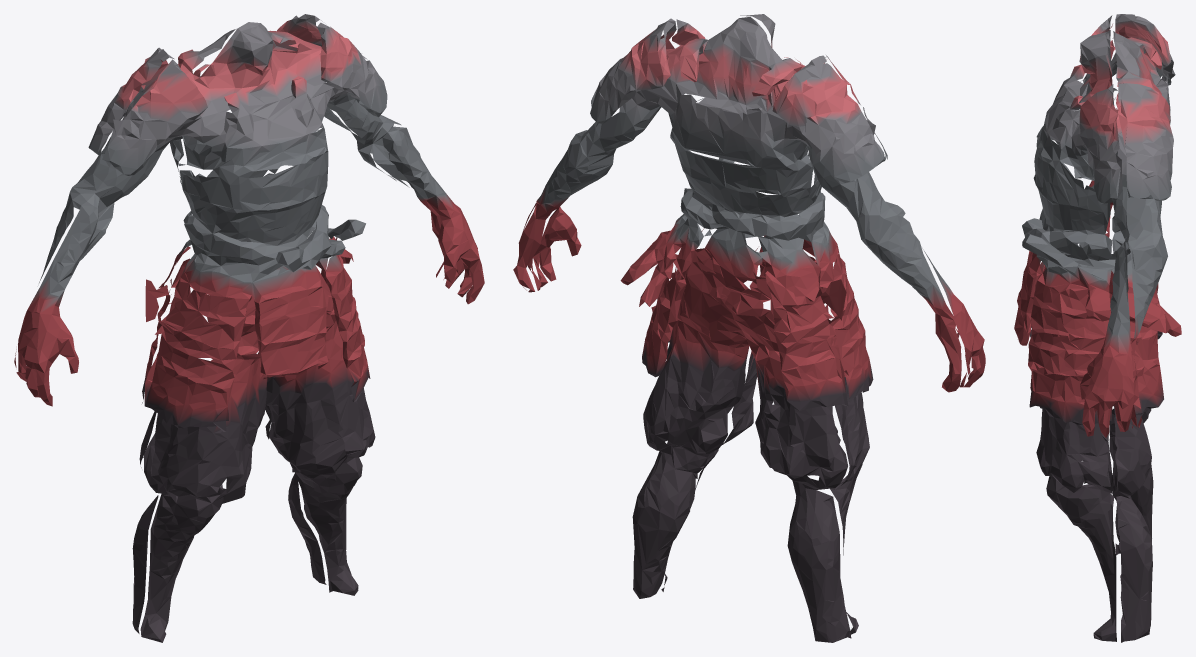
The model's file is ashigaru_v2d_colored.glb.
3 views of the same model, side by side, from view 1: azimuth 30°, elevation 25°; view 2: azimuth 150°, elevation 25°; view 3: azimuth 270°, elevation 25° (orthographic). The views are drawn at different scales.
Visible parts, largest first — view 1: world; view 2: world; view 3: world.
Boxes of the visible parts, x1=… form: world: x1=14, y1=14, x2=484, y2=642; world: x1=513, y1=14, x2=985, y2=642; world: x1=1014, y1=14, x2=1181, y2=642.
Bounding box in the file's own units: 1.36 × 1.7 × 0.4573.
